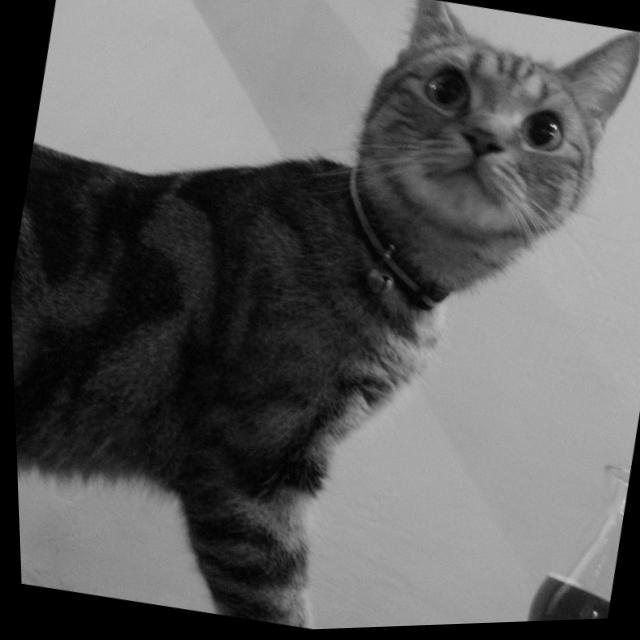animals: (384, 0, 640, 186)
